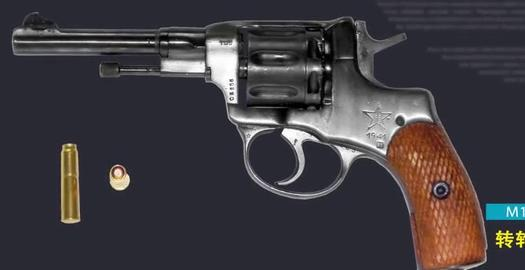gun: (1, 1, 525, 270)
